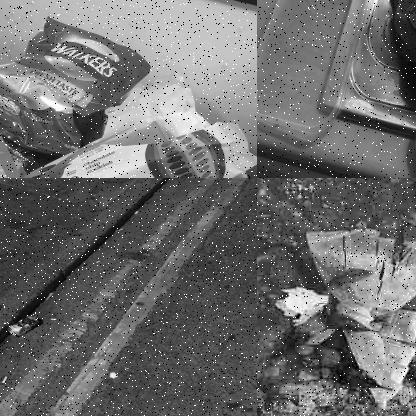cardboard: (33, 115, 256, 177)
metal: (7, 308, 38, 341)
plastic: (296, 223, 415, 410), (0, 17, 147, 129), (257, 0, 372, 134)
